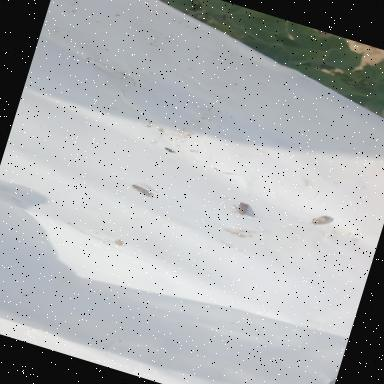pbw: (228, 199, 256, 219), (308, 211, 330, 229), (129, 184, 155, 199)
